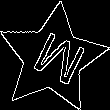M_SW: (21, 25, 84, 91)
